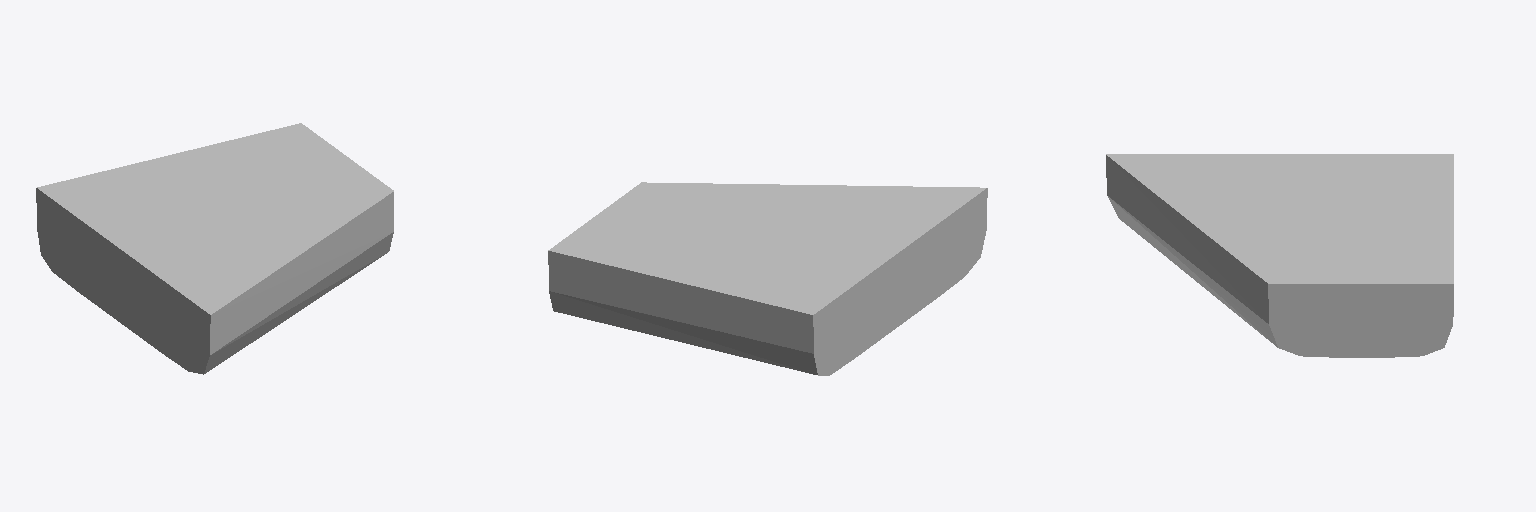
Rendered from pentagon_collision_66.obj.
3 renders of one model, left to right at view 1: azimuth 30°, elevation 25°; view 2: azimuth 150°, elevation 25°; view 3: azimuth 270°, elevation 25°, orthographic.
Bounding box in the file's own units: 0.0033 × 0.0009 × 0.0038.